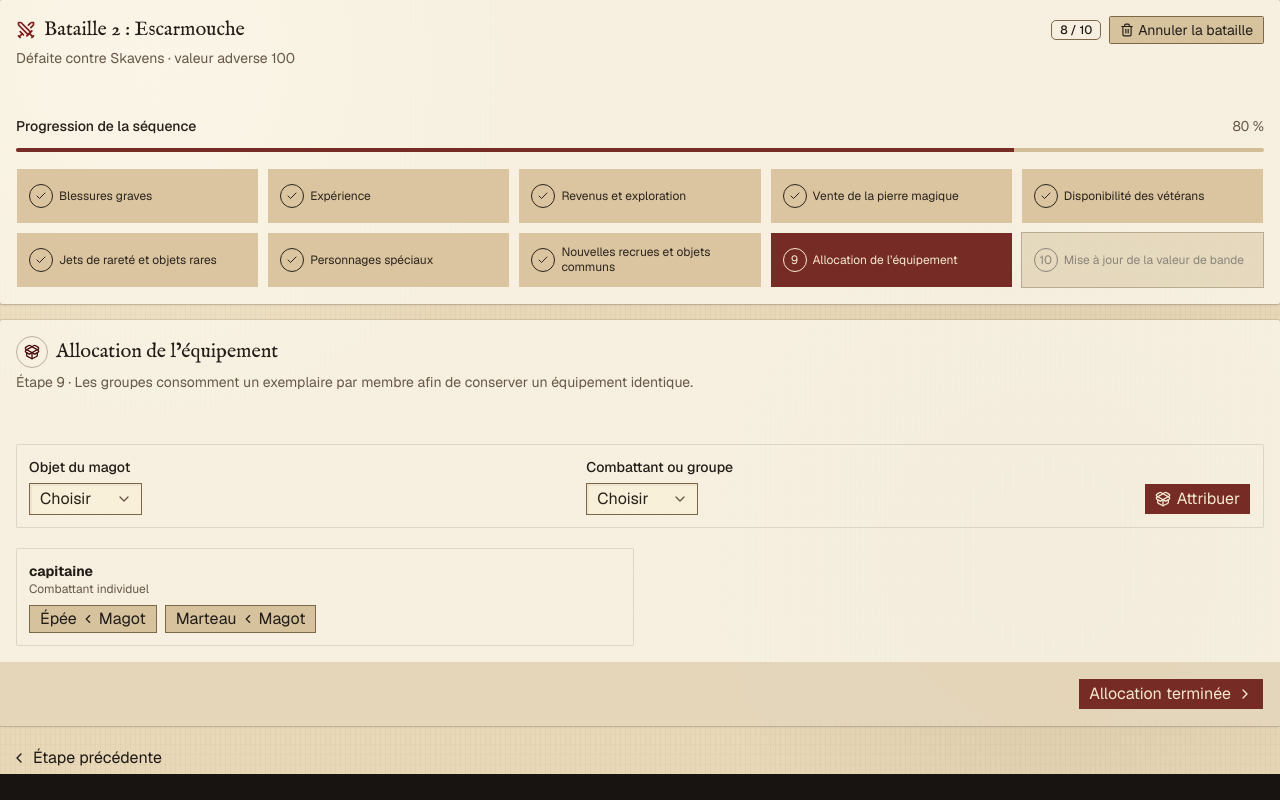
it: régressions après-bataille relevées par audit › refuse l’allocation interdite : troisième arme de corps à corps
The width and height of the screenshot is (1280, 800).
Select "Hache × 1" in the dropdown labelled "Objet du magot": (86, 499) [29,483,142,515]
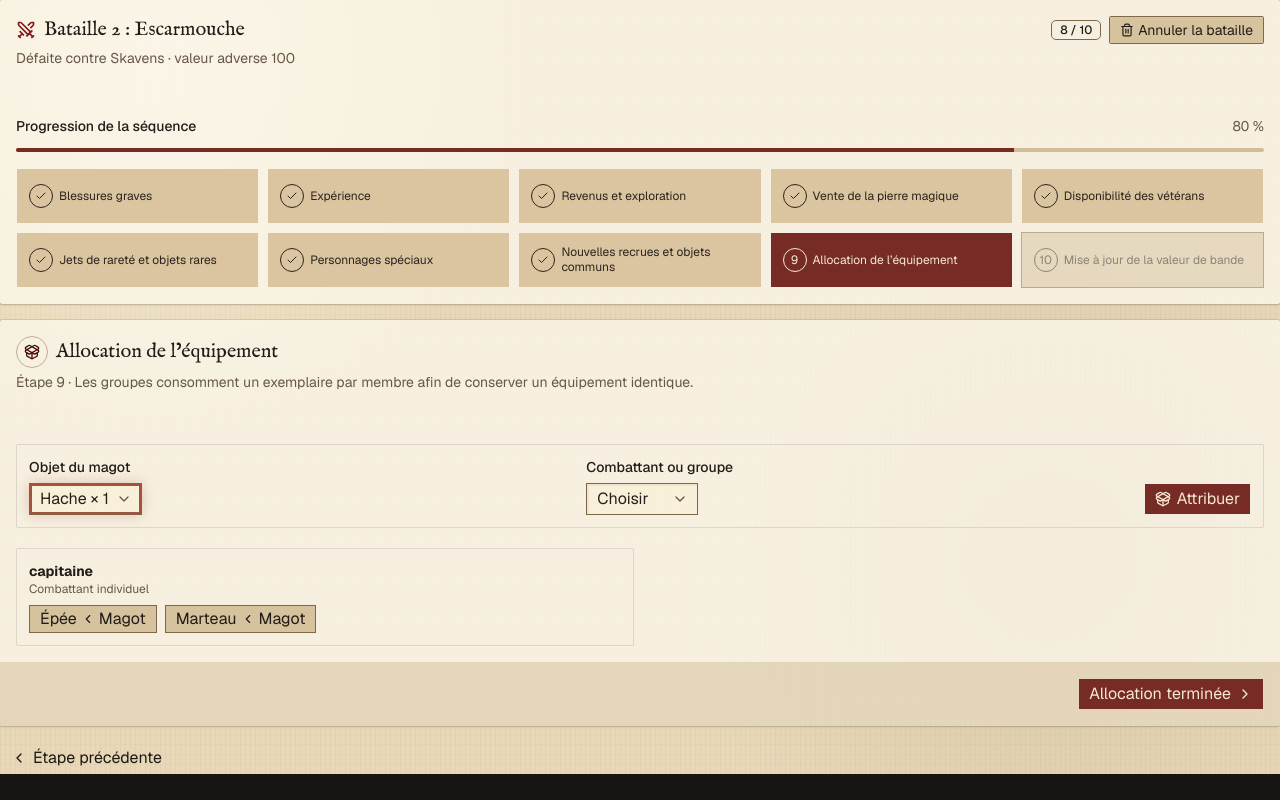
Select "capitaine" in the dropdown labelled "Combattant ou groupe": (642, 499) [586,483,698,515]
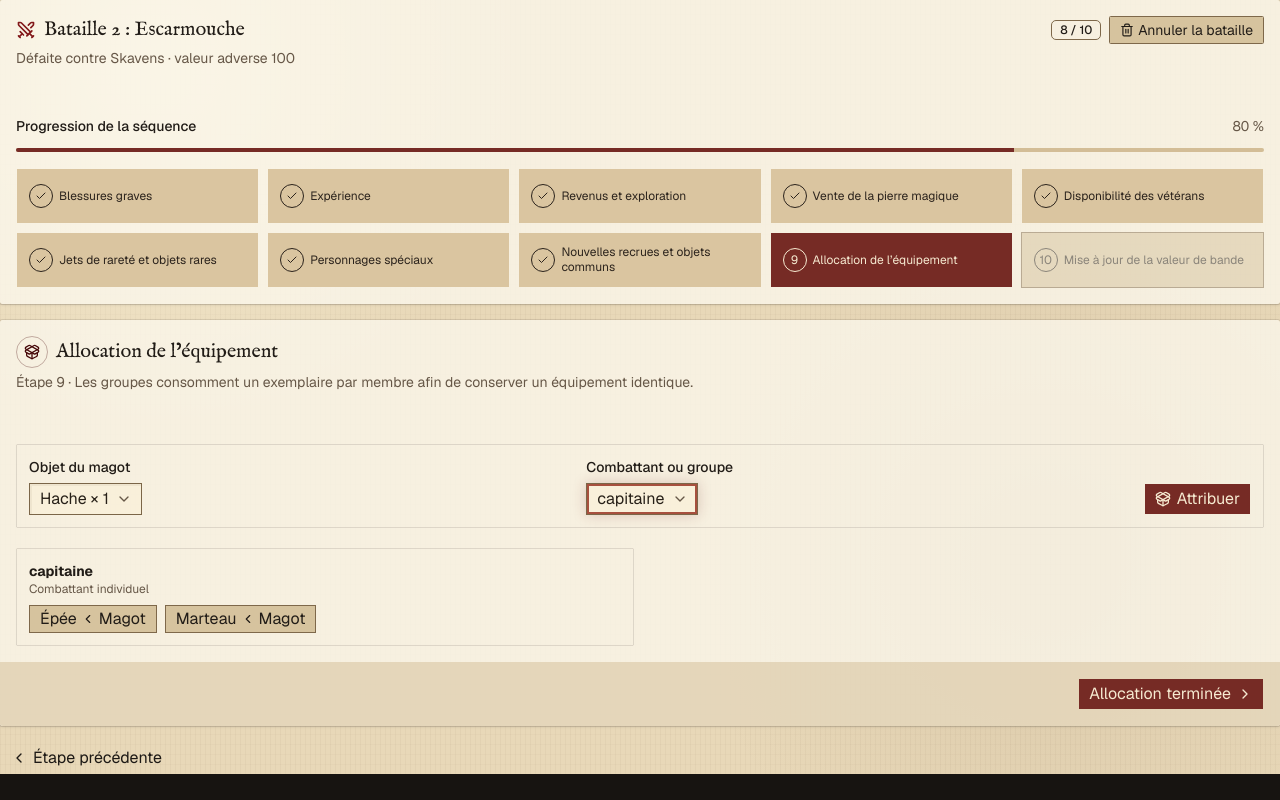
Click the button "Attribuer": click(1197, 499) [1144,483,1251,515]
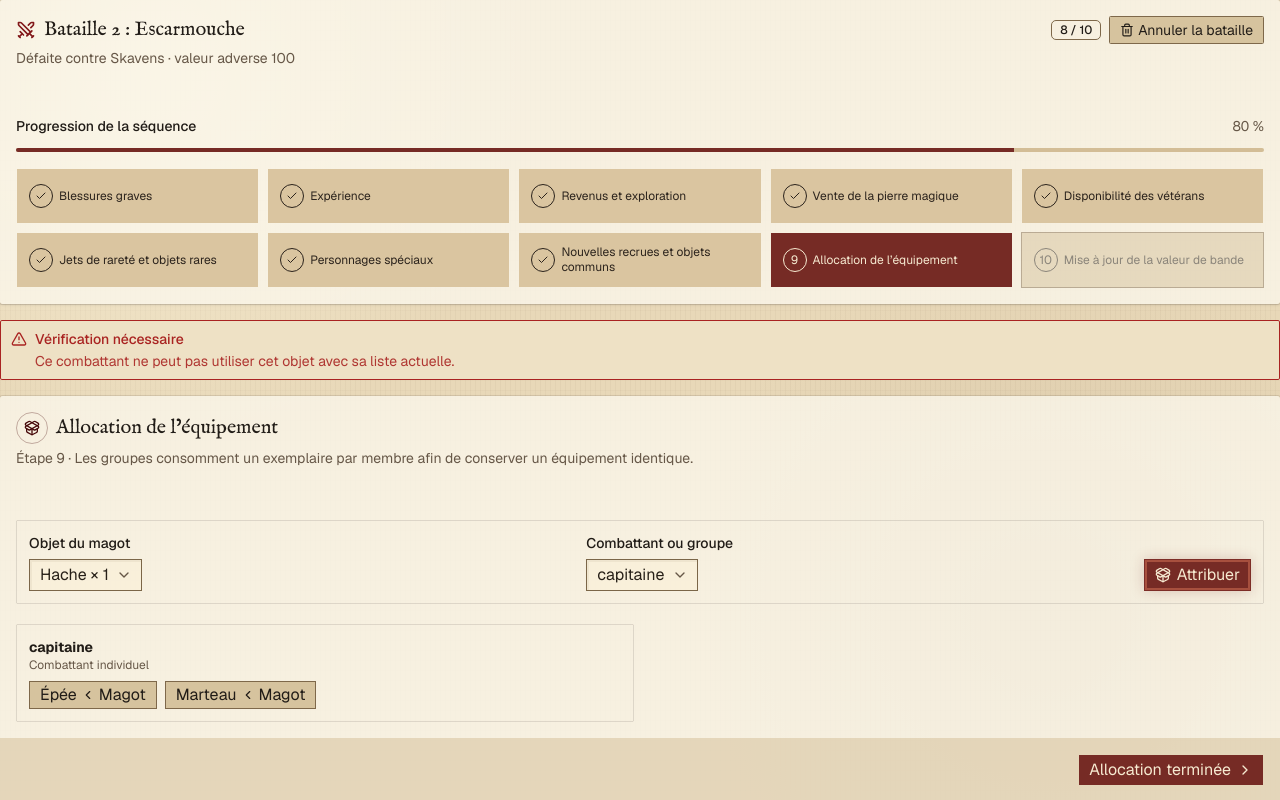
expect the text "Ce combattant ne peut pas utiliser cet objet" is shown: met, box [35,352,454,370]
